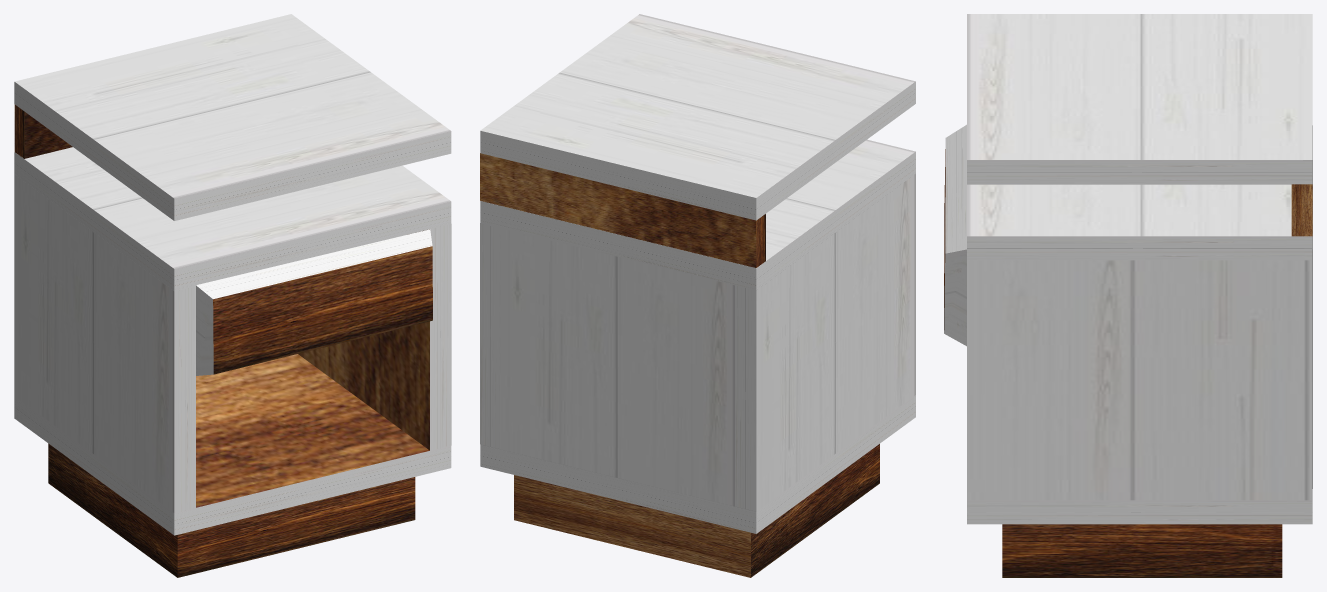
File: mueblep.obj
3 views of the same model, side by side, from view 1: azimuth 30°, elevation 25°; view 2: azimuth 150°, elevation 25°; view 3: azimuth 270°, elevation 25° (orthographic). The views are drawn at different scales.
Parts seen in each view (by area): view 1: pasted__pCube2 group4, pasted__pCube2 group, pCube2, pasted__pCube2 group3, pCube5, pCube1, pasted__pasted__pCube2 pasted__group group1, pasted__pasted__pasted__pasted__pCube2 pasted__pasted__pasted__g; view 2: pasted__pCube2 group4, pasted__pasted__pasted__pCube2 pasted__pasted__group pasted__gro, pasted__pCube2 group, pCube1, pasted__pCube2 group3, pasted__pasted__pasted__pasted__pCube2 pasted__pasted__pasted__g, pCube2, pasted__pasted__pCube2 pasted__group group1; view 3: pasted__pasted__pCube2 pasted__group group1, pasted__pCube2 group4, pasted__pCube2 group3, pCube1, pCube2, pCube5, pasted__pasted__pasted__pasted__pCube2 pasted__pasted__pasted__g.
Boxes of the visible parts, x1=… form: pasted__pCube2 group4: x1=14, y1=14, x2=451, y2=220; pasted__pCube2 group: x1=14, y1=174, x2=195, y2=513; pCube2: x1=14, y1=354, x2=451, y2=535; pasted__pCube2 group3: x1=14, y1=147, x2=451, y2=291; pCube5: x1=196, y1=229, x2=432, y2=375; pCube1: x1=48, y1=443, x2=415, y2=577; pasted__pasted__pCube2 pasted__group group1: x1=298, y1=224, x2=451, y2=450; pasted__pasted__pasted__pasted__pCube2 pasted__pasted__pasted__g: x1=14, y1=104, x2=72, y2=158; pasted__pCube2 group4: x1=480, y1=14, x2=915, y2=220; pasted__pasted__pasted__pCube2 pasted__pasted__group pasted__gro: x1=501, y1=228, x2=734, y2=506; pasted__pCube2 group: x1=735, y1=174, x2=915, y2=511; pCube1: x1=514, y1=444, x2=879, y2=577; pasted__pCube2 group3: x1=480, y1=139, x2=915, y2=290; pasted__pasted__pasted__pasted__pCube2 pasted__pasted__pasted__g: x1=480, y1=153, x2=765, y2=267; pCube2: x1=480, y1=395, x2=915, y2=533; pasted__pasted__pCube2 pasted__group group1: x1=480, y1=223, x2=500, y2=449; pasted__pasted__pCube2 pasted__group group1: x1=967, y1=260, x2=1312, y2=500; pasted__pCube2 group4: x1=967, y1=14, x2=1312, y2=184; pasted__pCube2 group3: x1=967, y1=184, x2=1312, y2=260; pCube1: x1=1002, y1=524, x2=1282, y2=577; pCube2: x1=967, y1=500, x2=1312, y2=524; pCube5: x1=944, y1=124, x2=966, y2=346; pasted__pasted__pasted__pasted__pCube2 pasted__pasted__pasted__g: x1=1291, y1=184, x2=1312, y2=236.
Size of the model in its own units: 1 by 1.37 by 1.07.
4 materials, 3 textured.
